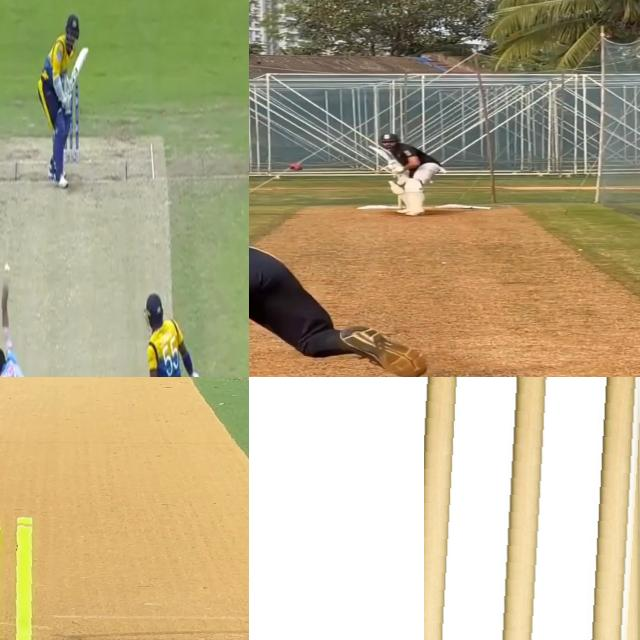Cricket ball: (3, 261, 12, 277), (290, 163, 303, 170)
Stumps: (423, 377, 640, 640), (0, 515, 59, 640)
